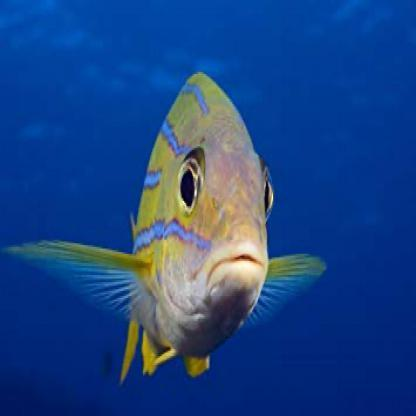Bio: (6, 67, 330, 390)
